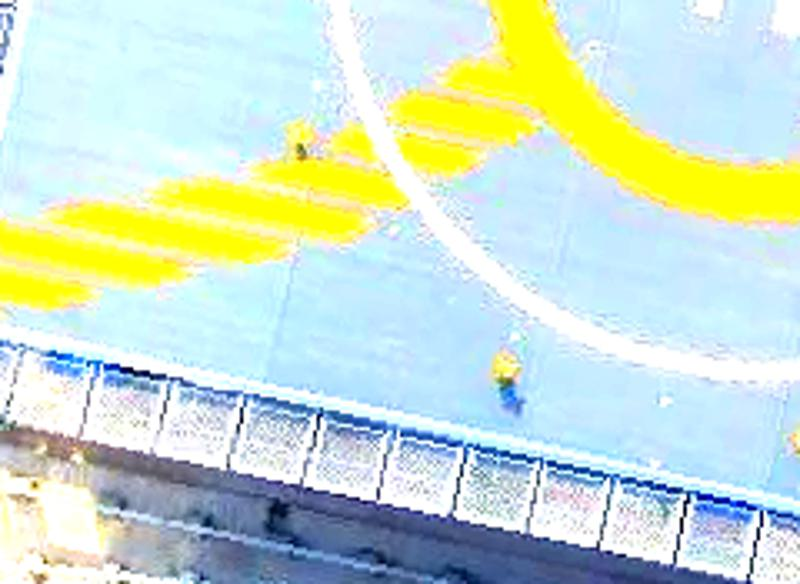Apron: (477, 4, 799, 240)
